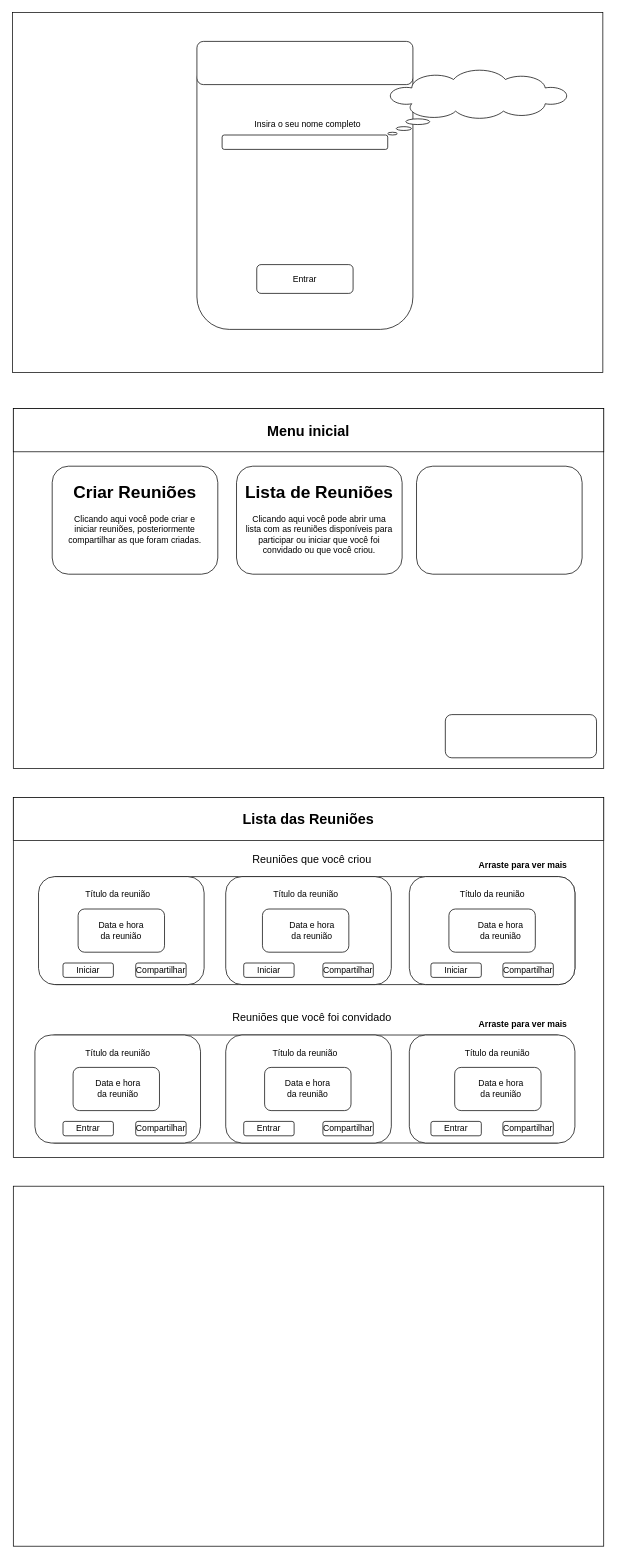
Some shapes in this 617 by 1559 pixel diagram are drawn without their labels. The centre of each missing label's shape, as x and y in pixels:
Campo de texto: the point at 477,102
Iniciando uma sessão: the point at 304,63
Seus dados: the point at 521,736
